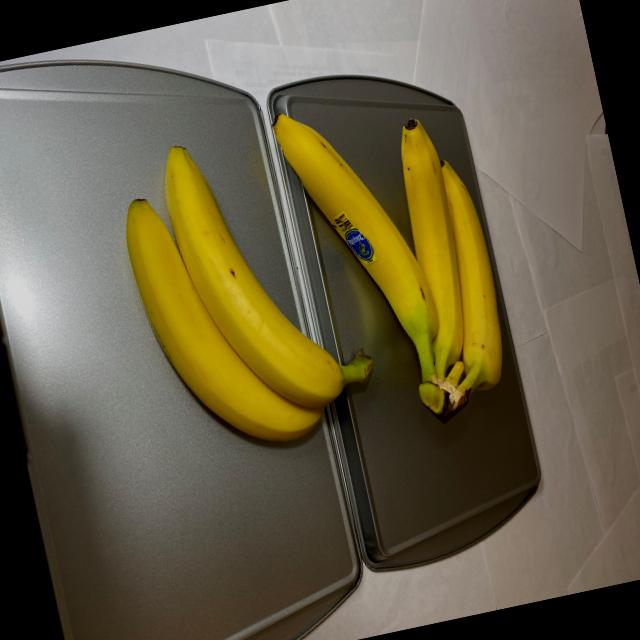banana: (104, 113, 386, 475), (264, 71, 520, 452)
